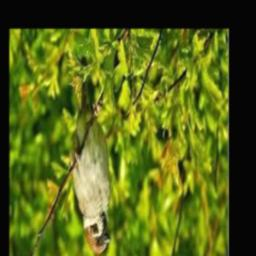Sparrow: (71, 56, 111, 254)
